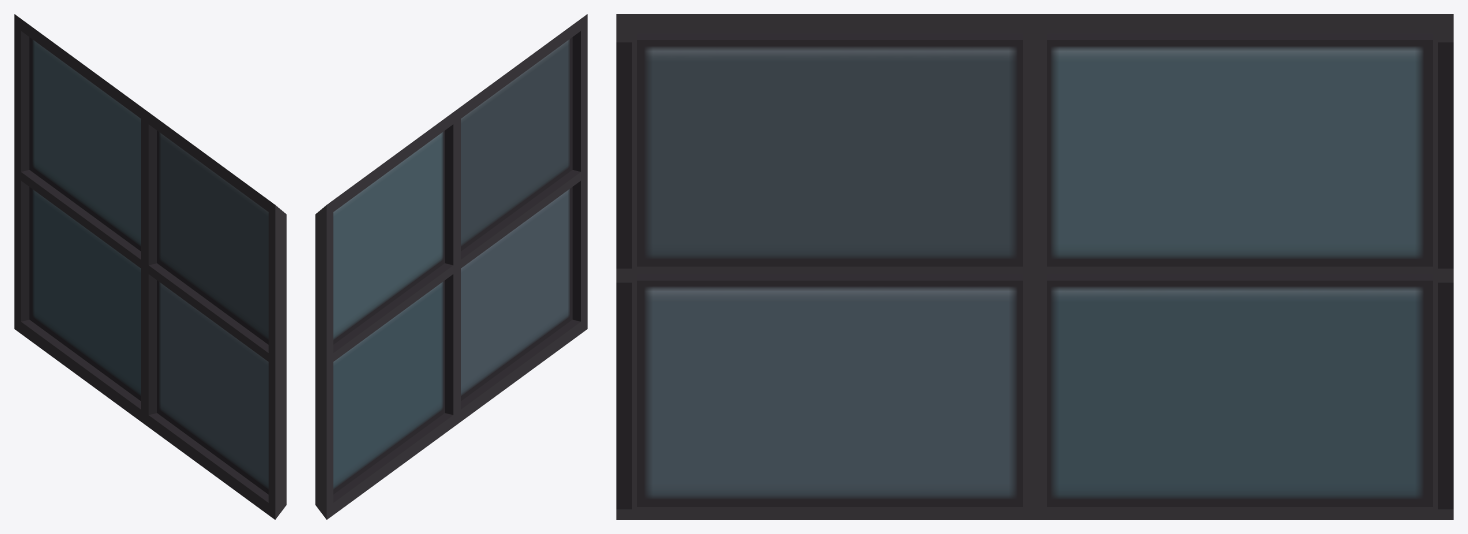
The model's file is Bock_G1(0).fbx.
3 renders of one model, left to right at view 1: azimuth 30°, elevation 25°; view 2: azimuth 150°, elevation 25°; view 3: azimuth 270°, elevation 25°, orthographic. The views are drawn at different scales.
Visible parts, largest first — view 1: Bock_G1; view 2: Bock_G1; view 3: Bock_G1.
Part boxes in pixels (left/top/right/bottom): Bock_G1: left=14, top=14, right=286, bottom=519; Bock_G1: left=315, top=14, right=587, bottom=519; Bock_G1: left=616, top=14, right=1453, bottom=519.
Size of the model in its own units: 14.95 by 400 by 600.
